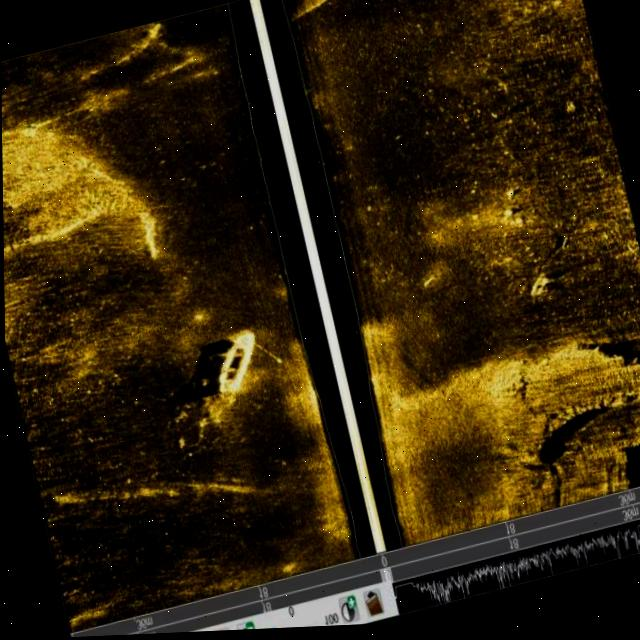shipwreck: (198, 320, 268, 410)
